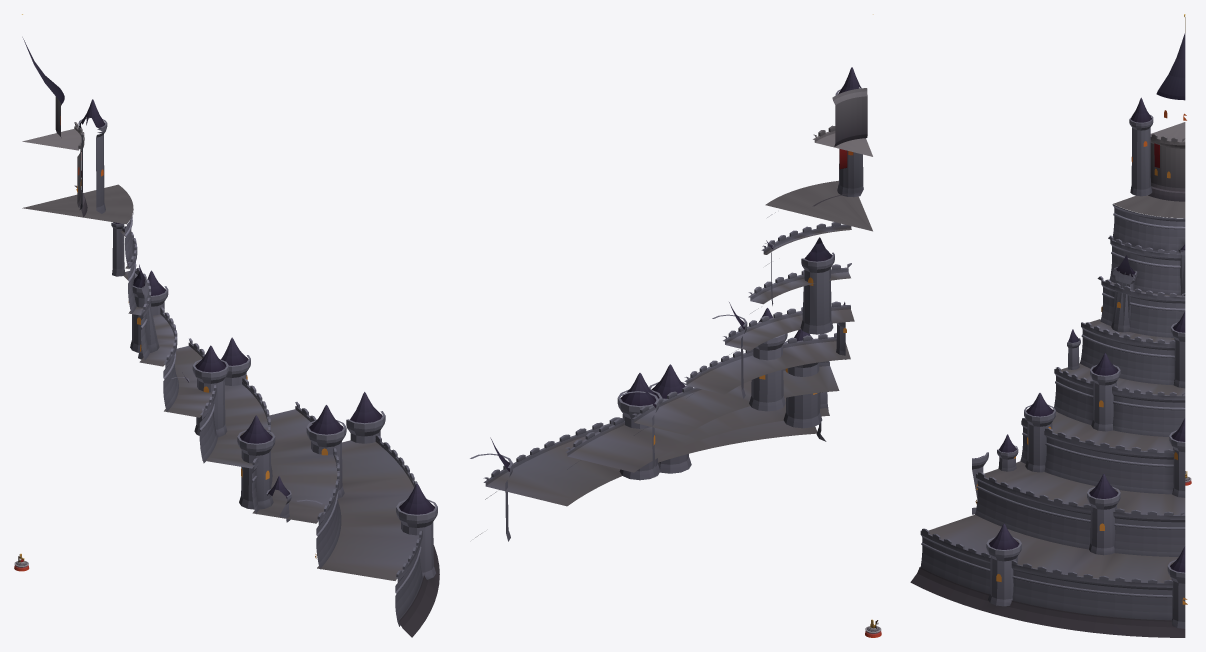
Rendered from fortress-s7-DYn__6Kb.glb.
The picture shows the model from 3 angles, left to right: view 1: azimuth 30°, elevation 25°; view 2: azimuth 150°, elevation 25°; view 3: azimuth 270°, elevation 25°; orthographic projection. The views are drawn at different scales.
Visible parts, largest first — view 1: sc_landmark_6; view 2: sc_landmark_6; view 3: sc_landmark_6.
Part boxes in pixels (bbox=[...]): sc_landmark_6: bbox=[22, 14, 439, 637]; sc_landmark_6: bbox=[470, 14, 873, 541]; sc_landmark_6: bbox=[910, 14, 1187, 637].
Size of the model in its own units: 330 by 479 by 258.
